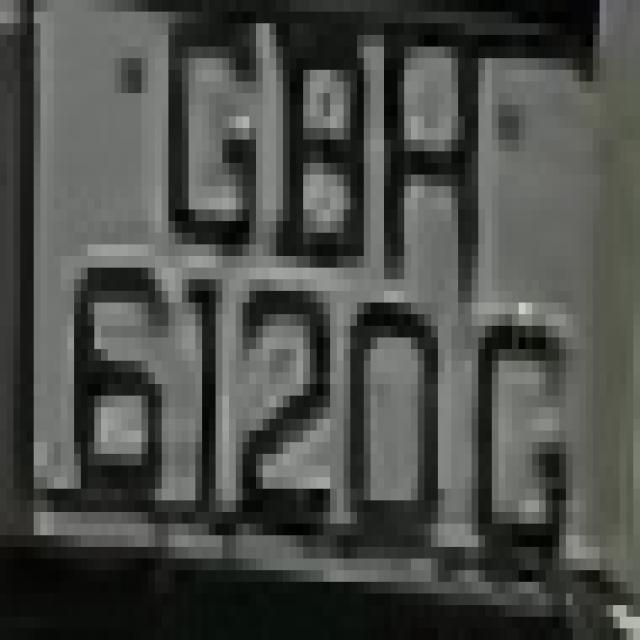0: (337, 268, 451, 547)
1: (188, 221, 242, 524)
2: (235, 221, 344, 547)
6: (61, 198, 175, 547)
B: (263, 23, 377, 291)
G: (465, 268, 586, 605), (142, 12, 276, 279)
H: (371, 23, 505, 303)
